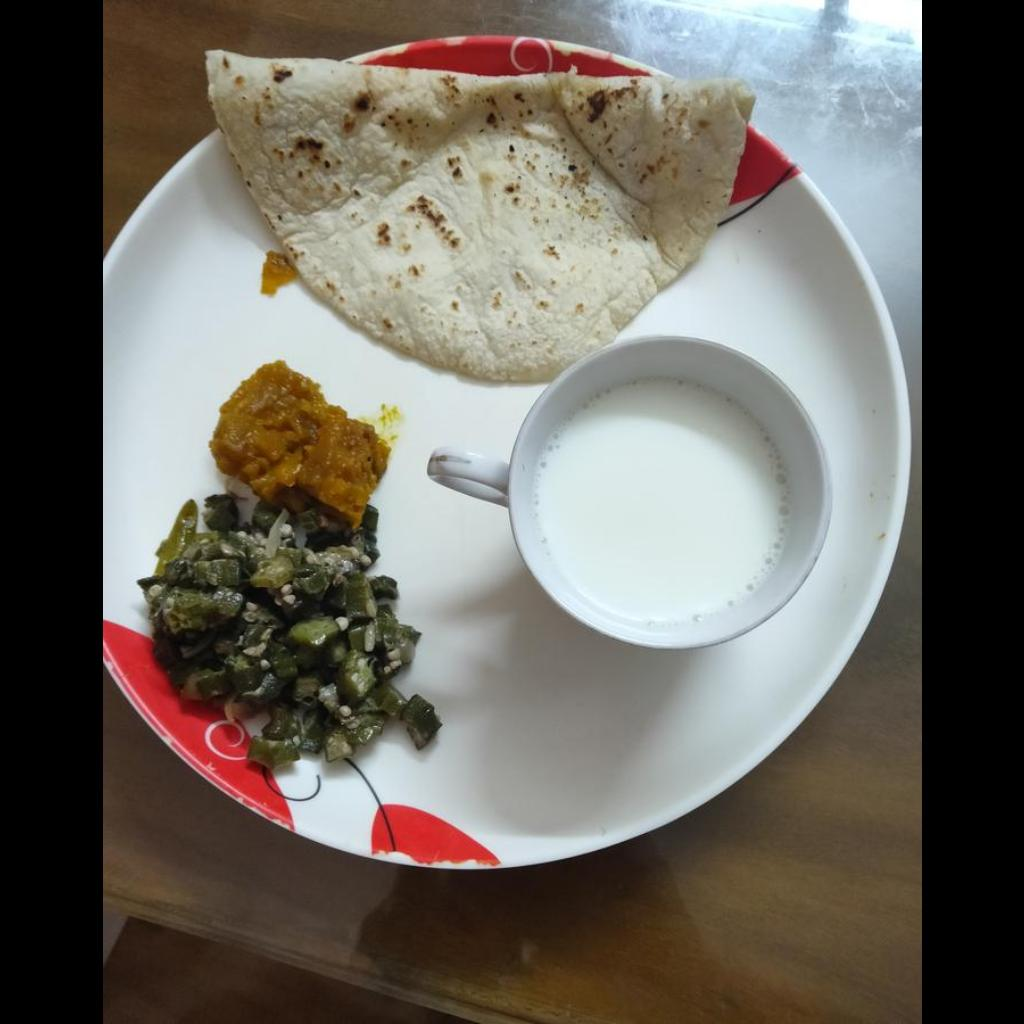achar: (208, 361, 389, 523)
milk: (534, 378, 784, 620)
ruti: (202, 58, 753, 382)
shak: (150, 495, 446, 775)
